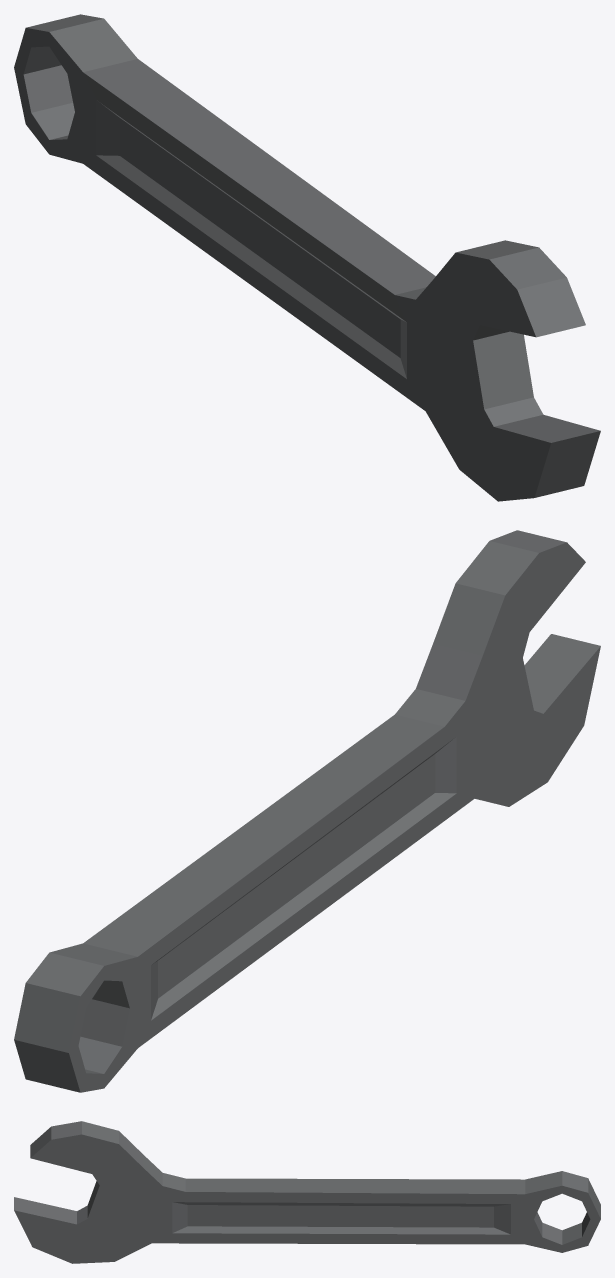
File: SM_Tool_Wrench_02.fbx
The picture shows the model from 3 angles, top to bottom: view 1: azimuth 30°, elevation 25°; view 2: azimuth 150°, elevation 25°; view 3: azimuth 270°, elevation 25°; orthographic projection. The views are drawn at different scales.
Visible parts, largest first — view 1: SM_Tool_Wrench_02; view 2: SM_Tool_Wrench_02; view 3: SM_Tool_Wrench_02.
Part boxes in pixels (left/top/right/bottom): SM_Tool_Wrench_02: left=14, top=14, right=600, bottom=501; SM_Tool_Wrench_02: left=14, top=530, right=600, bottom=1092; SM_Tool_Wrench_02: left=14, top=1121, right=600, bottom=1263.
Size of the model in its own units: 2.35 by 9.63 by 39.58.
